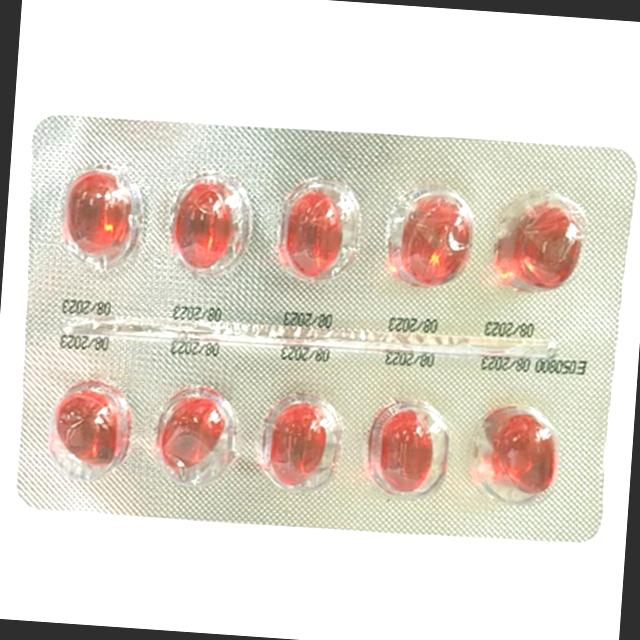blister: (2, 104, 636, 558)
